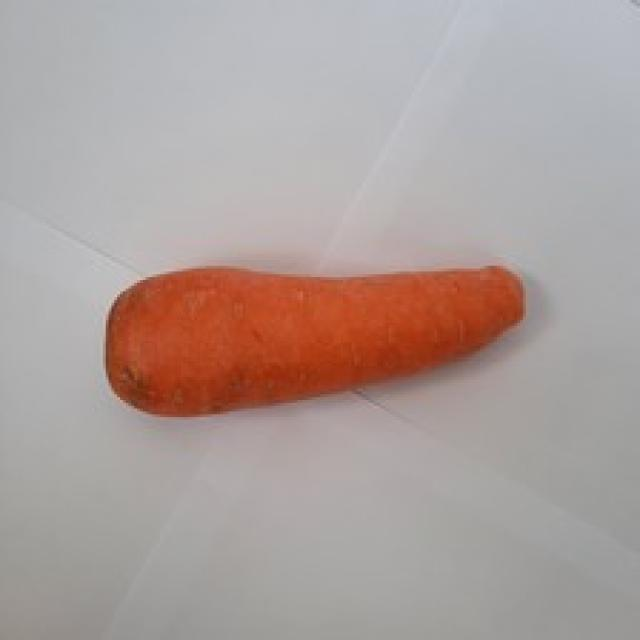Fresh_Carrot: (104, 257, 526, 414)
